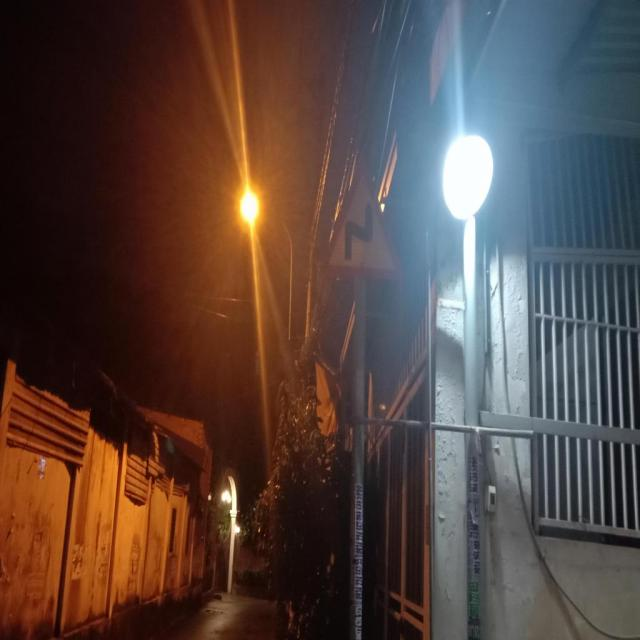cho_ngoat_nguy_hiem_lien_tiep: (321, 153, 401, 281)
